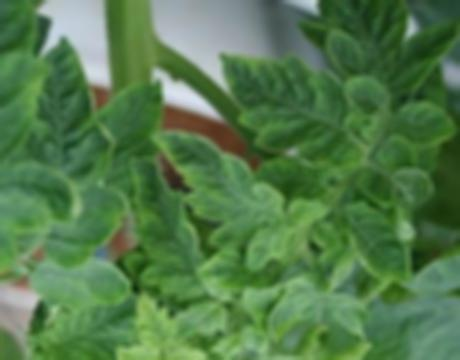Tomato leaf mosaic virus: (153, 124, 305, 244), (213, 50, 362, 167), (129, 160, 206, 305), (29, 36, 97, 173), (22, 293, 152, 360), (340, 198, 413, 289), (30, 251, 132, 310), (188, 249, 278, 299), (262, 274, 327, 343), (387, 96, 450, 149)
